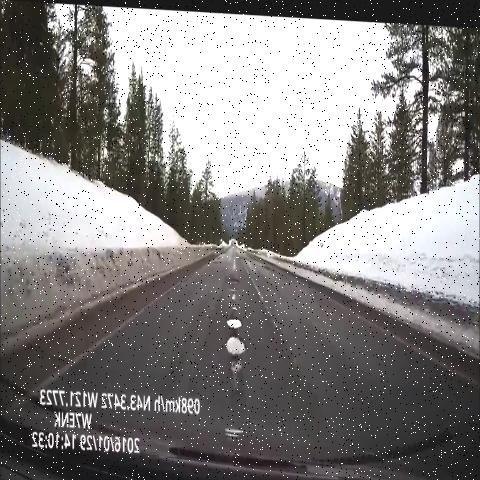pothole: (222, 327, 246, 378), (224, 267, 244, 291), (226, 308, 246, 330), (229, 284, 242, 308)
